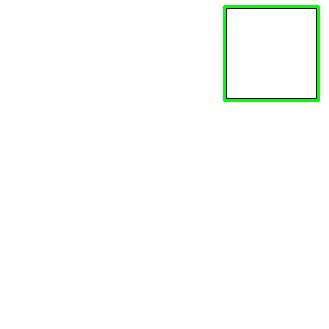line_segment: (223, 5, 320, 102)
